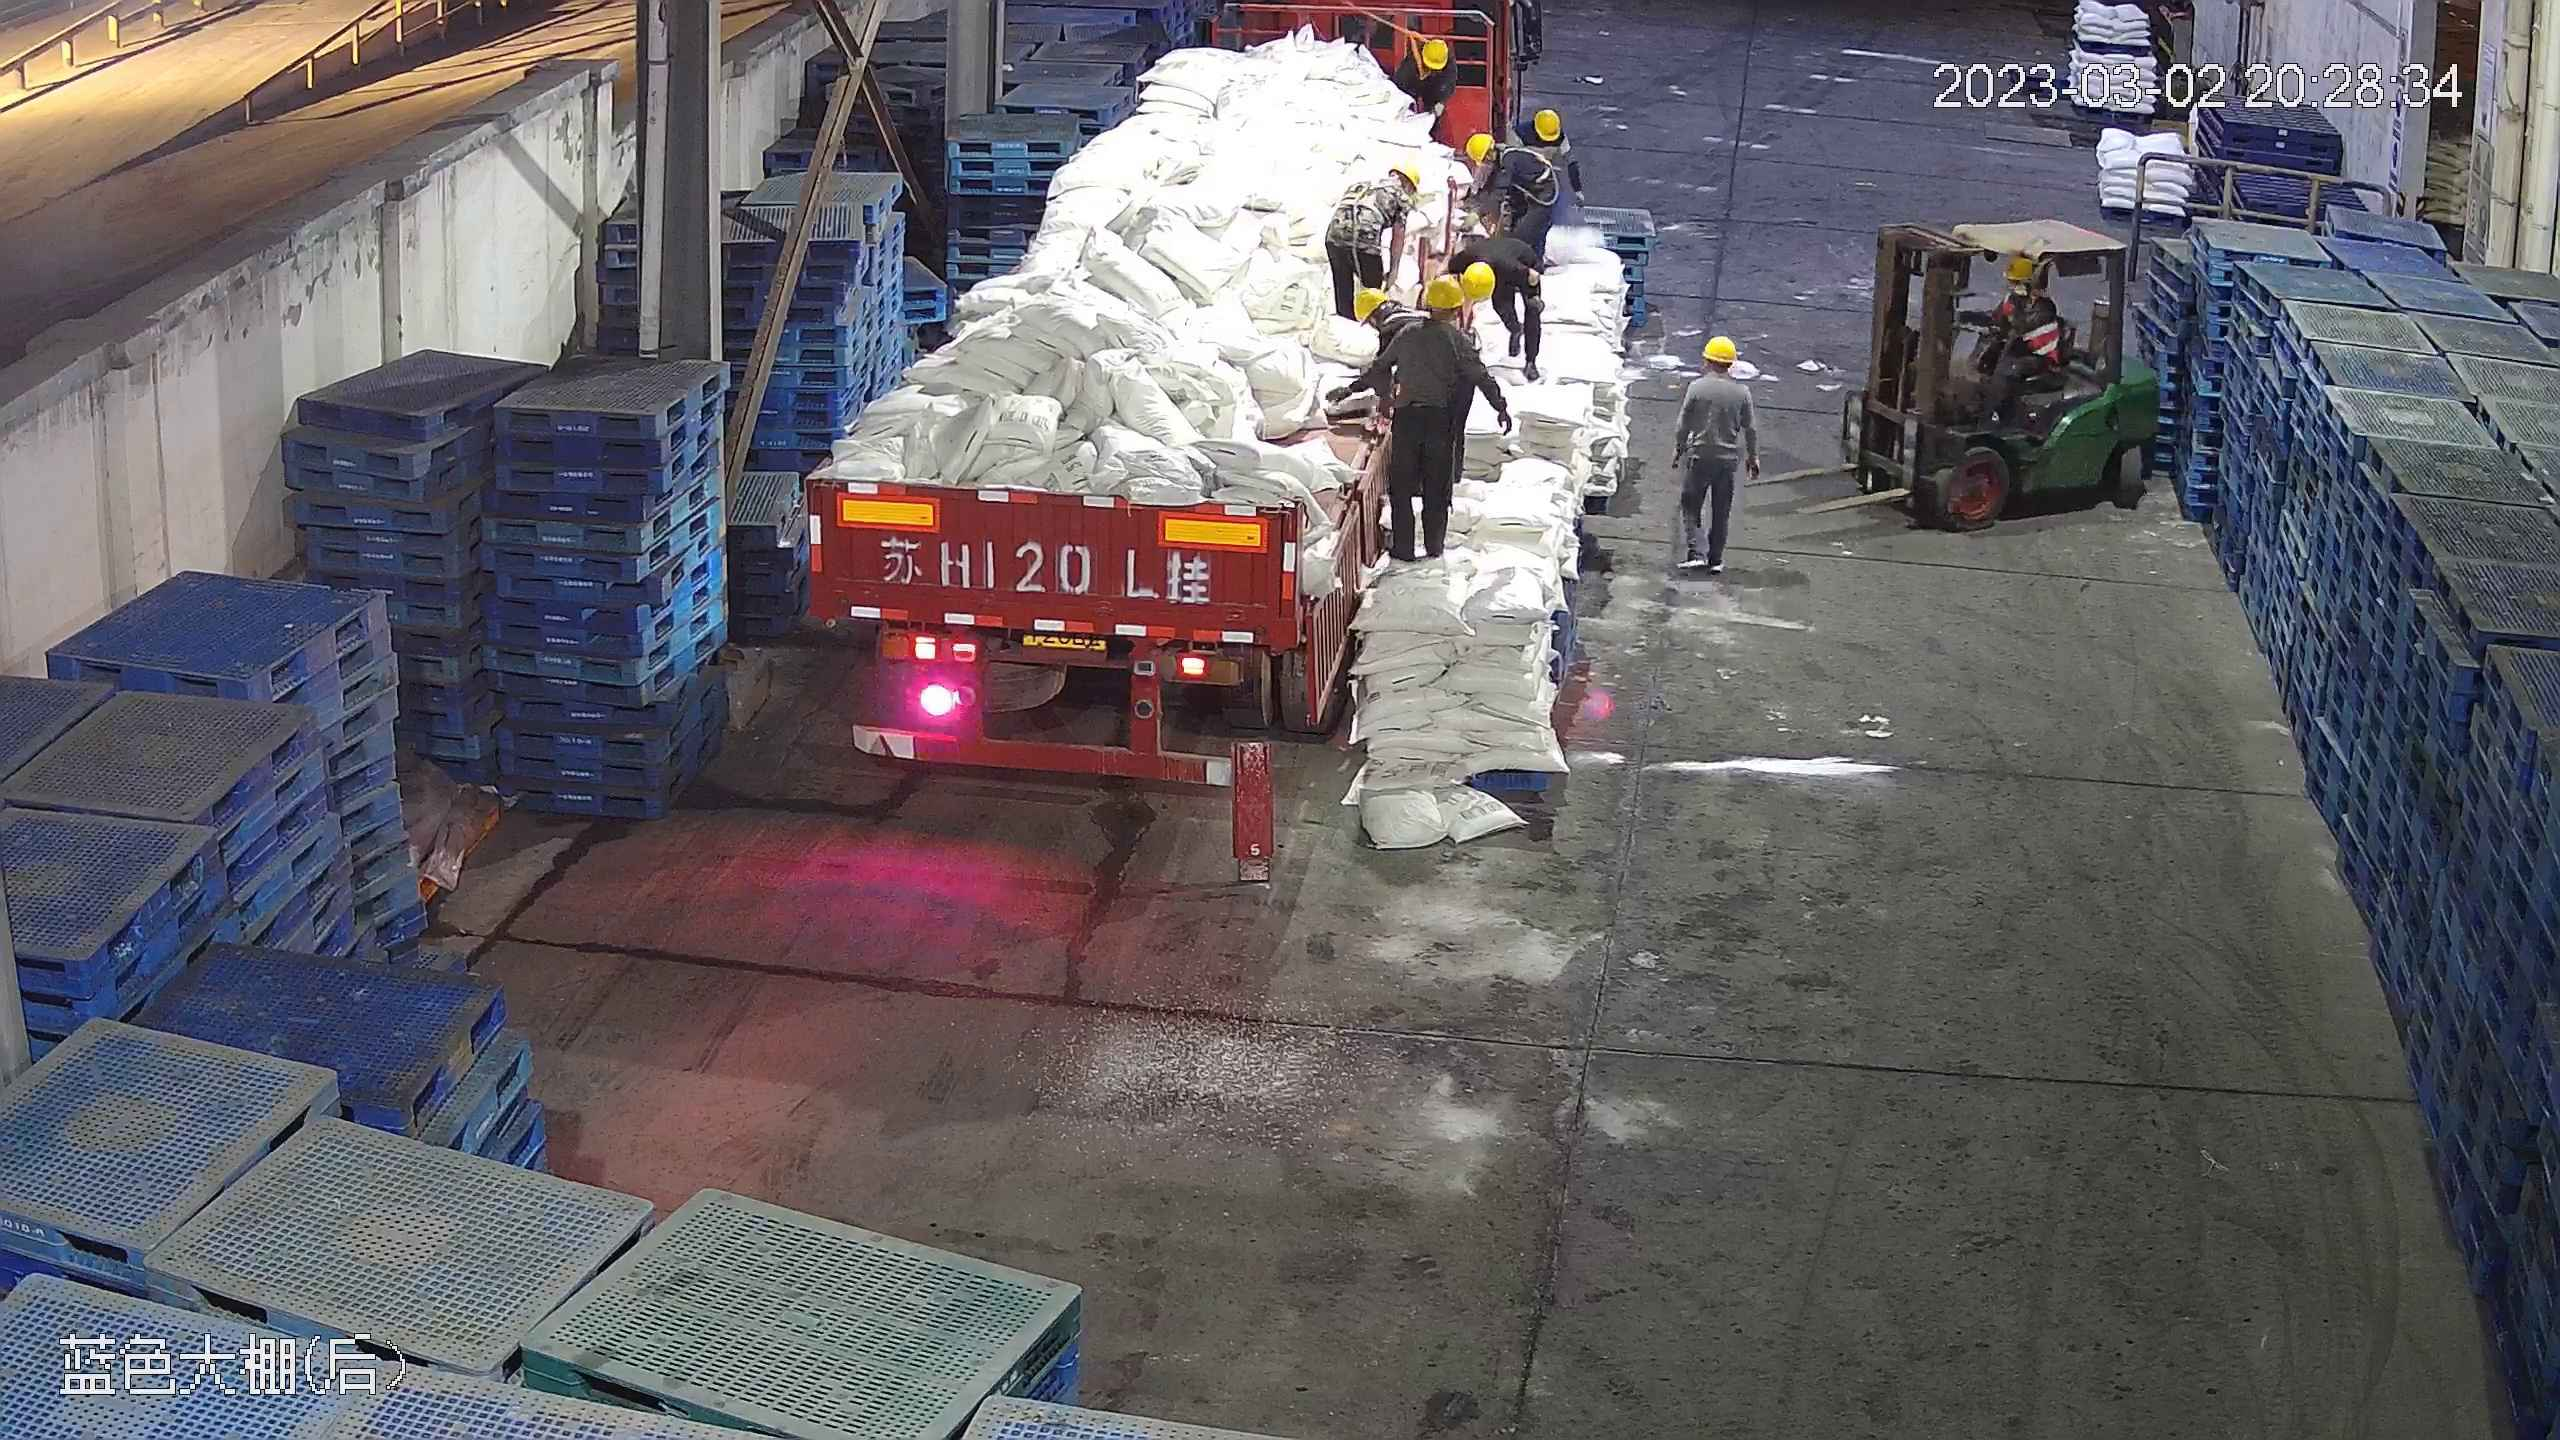belt: (1499, 145, 1556, 210), (1335, 181, 1394, 233), (1399, 22, 1433, 76), (1384, 303, 1432, 324)
head: (1393, 270, 1487, 360), (1355, 284, 1441, 351), (1683, 334, 1750, 414), (1340, 165, 1420, 227), (1462, 127, 1537, 190), (1996, 255, 2056, 328), (1507, 107, 1567, 175), (1408, 39, 1463, 100)
helmet: (1454, 261, 1496, 304), (1423, 274, 1466, 311), (1350, 284, 1389, 319), (1390, 162, 1425, 200), (1530, 106, 1562, 142), (1417, 36, 1450, 68), (1700, 334, 1739, 362), (1462, 131, 1497, 161), (2008, 255, 2043, 281)
people: (1365, 278, 1499, 564), (1467, 115, 1563, 376), (1671, 332, 1759, 578), (1320, 163, 1425, 348), (1975, 252, 2063, 423)
truck: (793, 8, 1487, 788)
